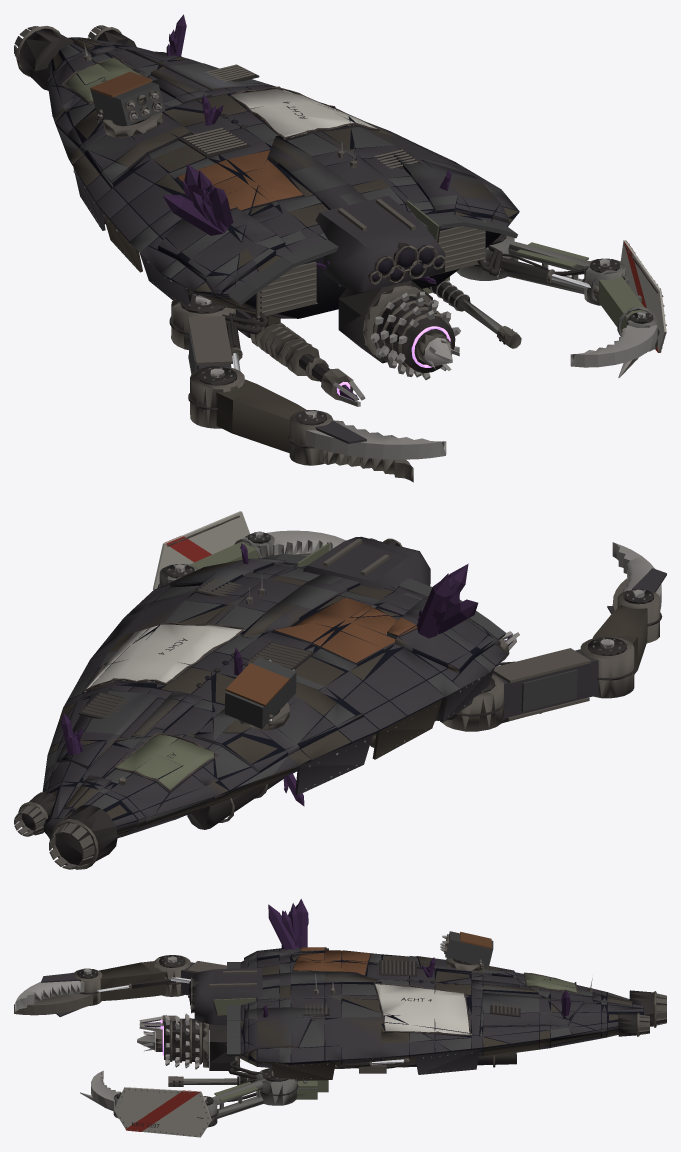
The model's file is Ferrox_Jaeger2.c365111796.glb.
The picture shows the model from 3 angles, top to bottom: view 1: azimuth 30°, elevation 25°; view 2: azimuth 150°, elevation 25°; view 3: azimuth 270°, elevation 25°; orthographic projection. The views are drawn at different scales.
Visible parts, largest first — view 1: Ferrox_Jaeger2, arm_r, arm_l; view 2: Ferrox_Jaeger2, arm_r, arm_l; view 3: Ferrox_Jaeger2, arm_l, arm_r.
Part boxes in pixels (x1,y1,x2,y2): Ferrox_Jaeger2: (14,14,521,406); arm_r: (169,288,446,482); arm_l: (456,234,666,377); Ferrox_Jaeger2: (14,536,519,869); arm_r: (435,542,666,731); arm_l: (153,511,346,589); Ferrox_Jaeger2: (137,899,666,1099); arm_l: (80,1068,298,1137); arm_r: (14,955,226,1016).
Size of the model in its own units: 12.62 by 4.77 by 23.14.
